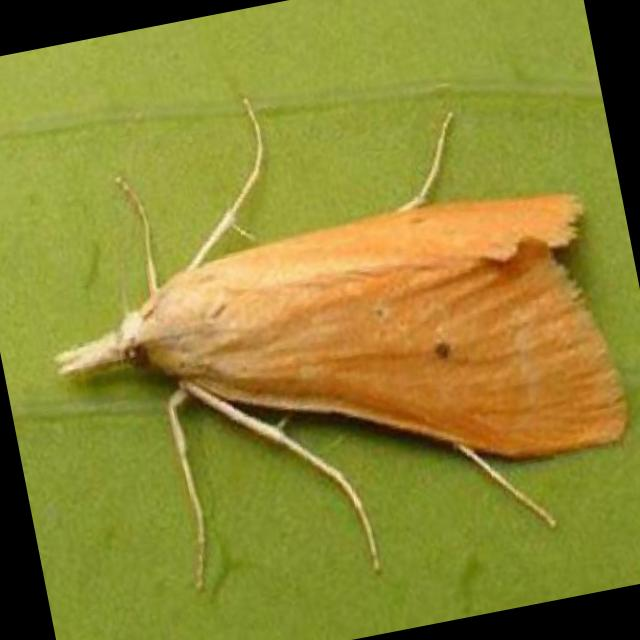stem-borer: (21, 120, 640, 571)
